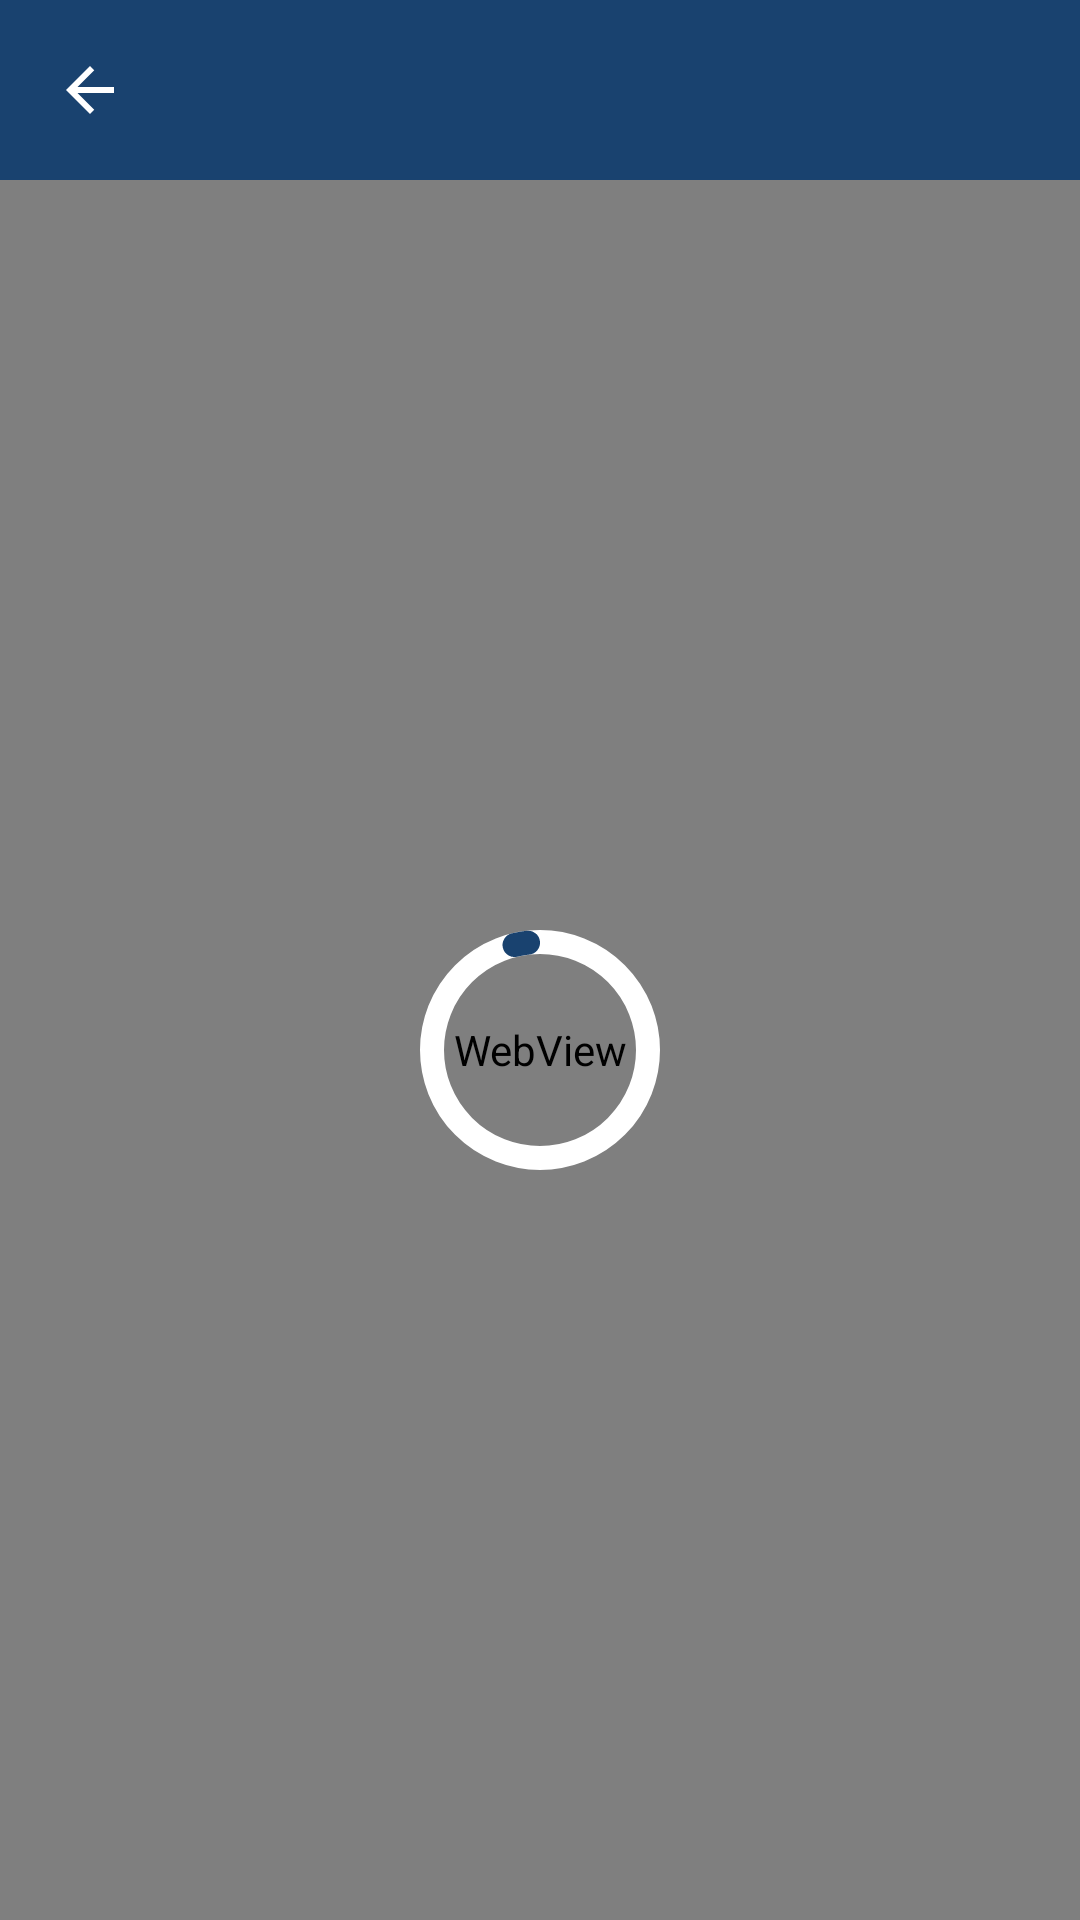

Where to tap for icons on this 1080*1920 app screen, as [x,y]:
arrow back: [90,90]
